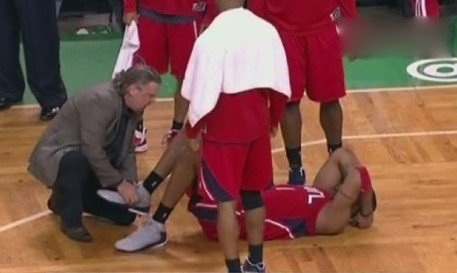fall: (99, 137, 401, 253)
